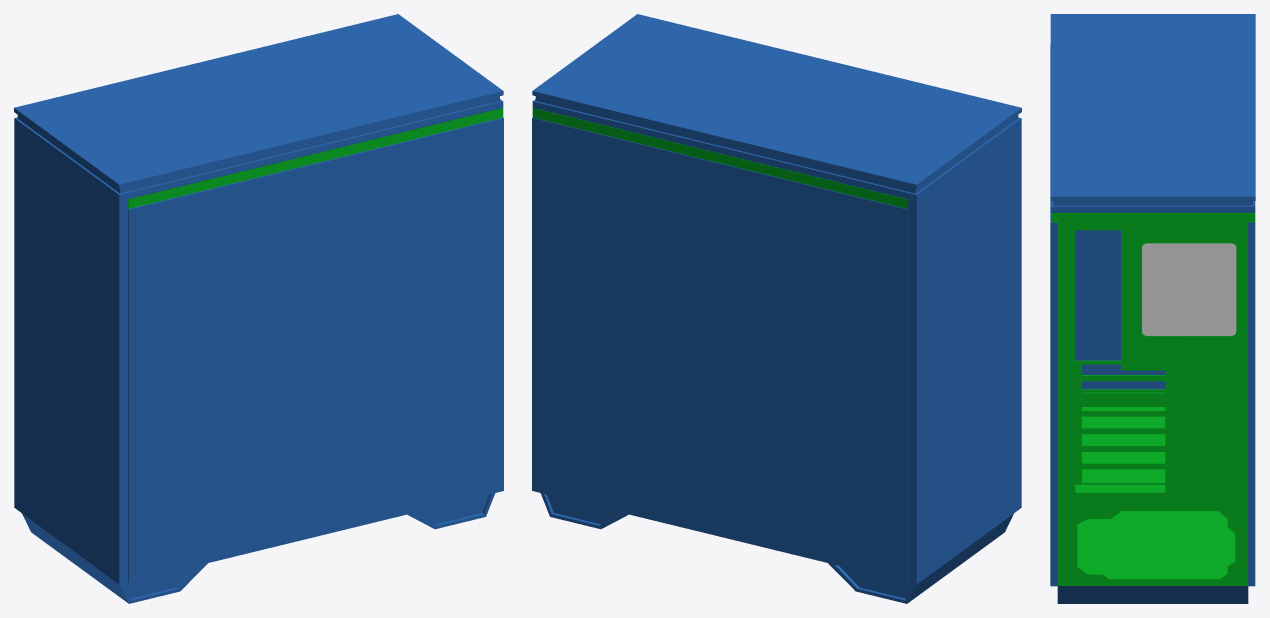
The model's file is pc_case_d_cover.fbx.
The picture shows the model from 3 angles, left to right: view 1: azimuth 30°, elevation 25°; view 2: azimuth 150°, elevation 25°; view 3: azimuth 270°, elevation 25°; orthographic projection. The views are drawn at different scales.
Parts seen in each view (by area): view 1: pc_case_d_cover, pc_case_d_body; view 2: pc_case_d_cover_door, pc_case_d_cover, pc_case_d_body; view 3: pc_case_d_body, pc_case_d_cover, pc_case_d_wire, pc_case_d_cover_door.
Boxes of the visible parts, left/top/right/bottom form: pc_case_d_cover: left=14, top=14, right=503, bottom=603; pc_case_d_body: left=128, top=108, right=503, bottom=208; pc_case_d_cover_door: left=532, top=117, right=907, bottom=582; pc_case_d_cover: left=532, top=14, right=1021, bottom=603; pc_case_d_body: left=532, top=108, right=907, bottom=208; pc_case_d_body: left=1051, top=213, right=1255, bottom=585; pc_case_d_cover: left=1050, top=14, right=1255, bottom=603; pc_case_d_wire: left=1142, top=243, right=1236, bottom=335; pc_case_d_cover_door: left=1248, top=222, right=1255, bottom=586.
Bounding box in the file's own units: 46.25 × 48.86 × 21.94.
